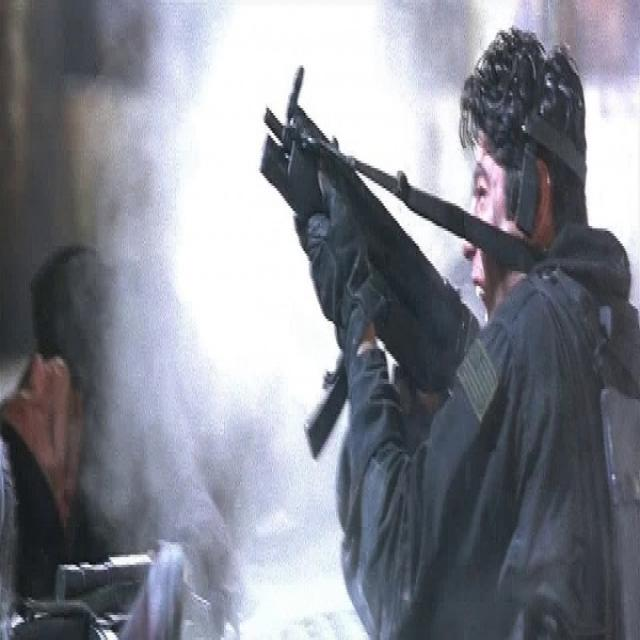rifle: (256, 58, 482, 459)
